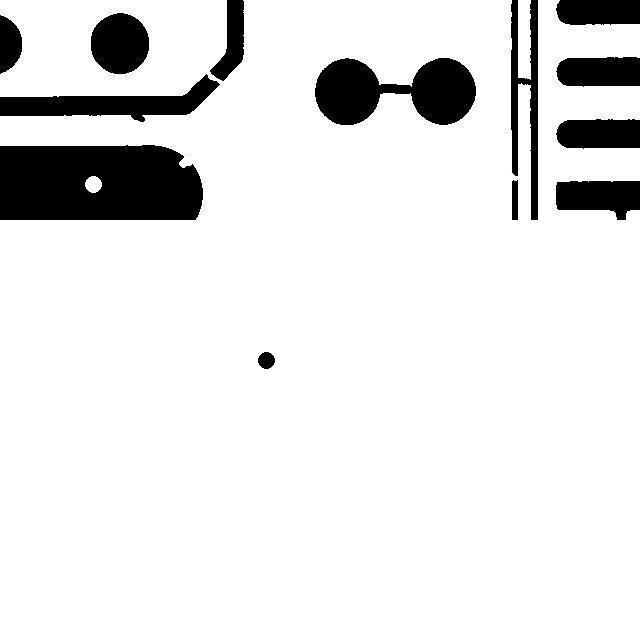copper: (248, 342, 284, 378)
mousebite: (169, 147, 203, 177)
open: (196, 61, 233, 95), (496, 162, 528, 190)
pin-hole: (75, 166, 111, 202)
short: (367, 74, 426, 103), (503, 68, 543, 94)
spur: (121, 103, 154, 131)
